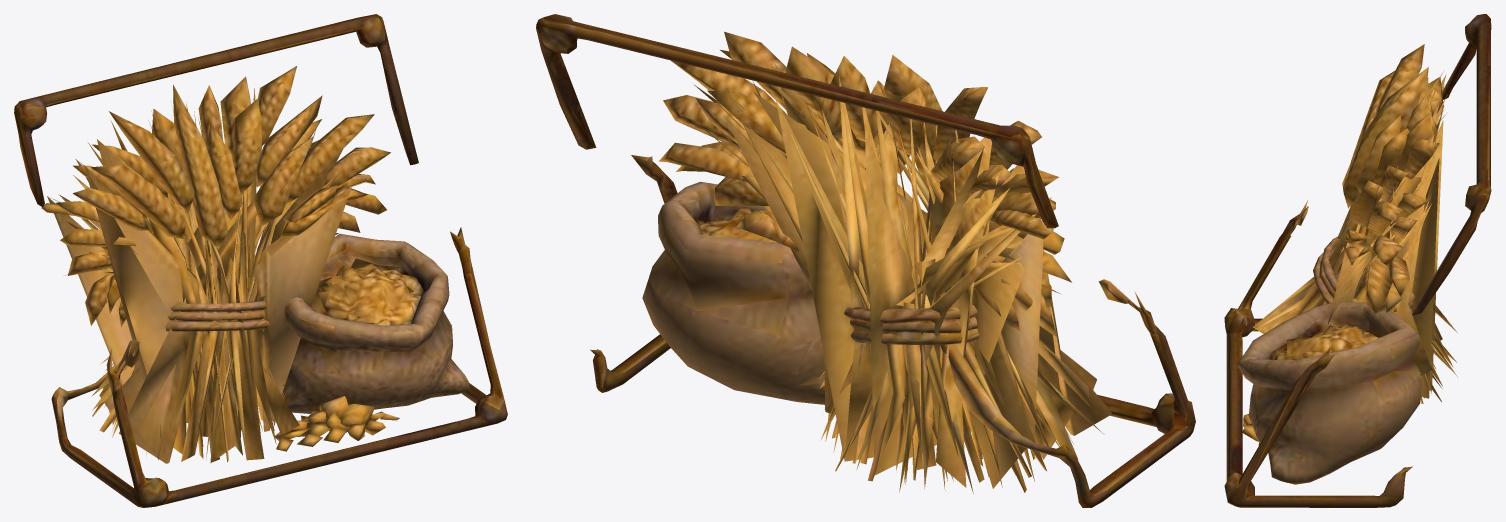
The model's file is res_grano.glb.
3 renders of one model, left to right at view 1: azimuth 30°, elevation 25°; view 2: azimuth 150°, elevation 25°; view 3: azimuth 270°, elevation 25°, orthographic. The views are drawn at different scales.
Bounding box in the file's own units: 0.9595 × 0.7954 × 0.5913.
1 material, 1 textured.
